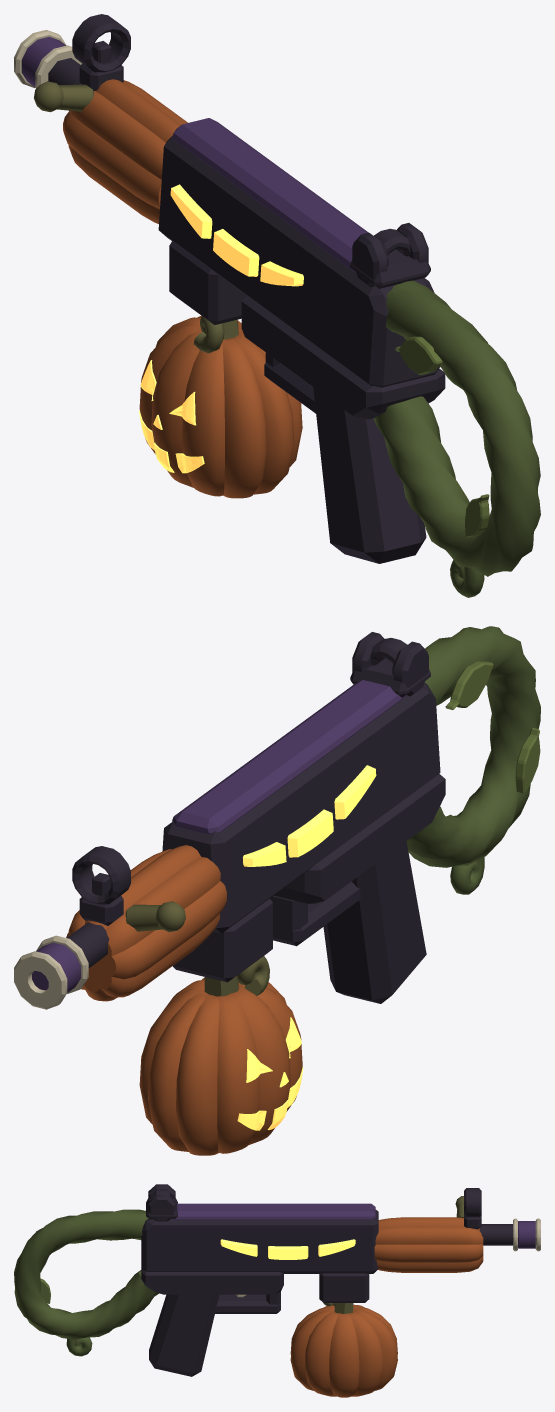
Rendered from w_smg@smg_pumpkin.glb.
The picture shows the model from 3 angles, top to bottom: view 1: azimuth 30°, elevation 25°; view 2: azimuth 150°, elevation 25°; view 3: azimuth 270°, elevation 25°; orthographic projection. The views are drawn at different scales.
Parts seen in each view (by area): view 1: body_wzB, stock_wzA, mag_wzA, grip_wzA, fore_wzA, grip_wzB, cover_wzA, sight_wzN, body_wzN, stock_wzN.001, mag_wzN.001, charge_wzN (+5 smaller); view 2: body_wzB, mag_wzA, stock_wzA, fore_wzA, grip_wzA, cover_wzA, grip_wzB, sight_wzN, body_wzN, barrel_wzN.001, stock_wzN.001, mag_wzN.001 (+5 smaller); view 3: body_wzB, stock_wzA, mag_wzA, fore_wzA, grip_wzA, grip_wzB, cover_wzA, sight_wzN, body_wzN, barrel_wzB, barrel_wzN, stock_wzN (+1 smaller).
Boxes of the visible parts, <box> form: body_wzB: <box>158,136,439,387</box>; stock_wzA: <box>373,280,540,576</box>; mag_wzA: <box>139,315,302,498</box>; grip_wzA: <box>313,387,426,563</box>; fore_wzA: <box>63,79,187,223</box>; grip_wzB: <box>241,296,445,419</box>; cover_wzA: <box>172,118,368,273</box>; sight_wzN: <box>72,14,430,288</box>; body_wzN: <box>170,184,303,286</box>; stock_wzN.001: <box>395,336,489,537</box>; mag_wzN.001: <box>139,360,204,473</box>; charge_wzN: <box>34,81,93,112</box>; body_wzB: <box>162,683,440,982</box>; mag_wzA: <box>139,977,302,1155</box>; stock_wzA: <box>406,626,540,867</box>; fore_wzA: <box>66,845,226,1001</box>; grip_wzA: <box>323,841,426,1003</box>; cover_wzA: <box>172,680,406,834</box>; grip_wzB: <box>270,773,445,946</box>; sight_wzN: <box>72,632,430,925</box>; body_wzN: <box>243,765,376,866</box>; barrel_wzN.001: <box>14,935,88,1009</box>; stock_wzN.001: <box>445,661,540,793</box>; mag_wzN.001: <box>237,1017,303,1130</box>; body_wzB: <box>141,1209,378,1302</box>; stock_wzA: <box>14,1209,158,1339</box>; mag_wzA: <box>290,1304,397,1397</box>; fore_wzA: <box>374,1217,483,1272</box>; grip_wzA: <box>149,1294,219,1376</box>; grip_wzB: <box>141,1269,283,1313</box>; cover_wzA: <box>170,1203,375,1219</box>; sight_wzN: <box>146,1184,481,1229</box>; body_wzN: <box>220,1239,355,1259</box>; barrel_wzB: <box>479,1224,512,1245</box>; barrel_wzN: <box>518,1221,535,1248</box>; stock_wzN: <box>66,1337,92,1356</box>.
Bounding box in the file's own units: 0.106 × 0.278 × 0.6564.
